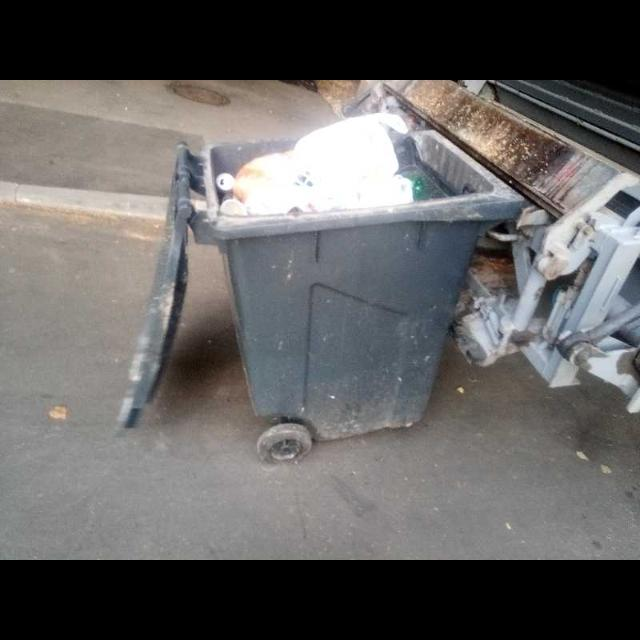Trash_Can_Full: (201, 112, 523, 443)
